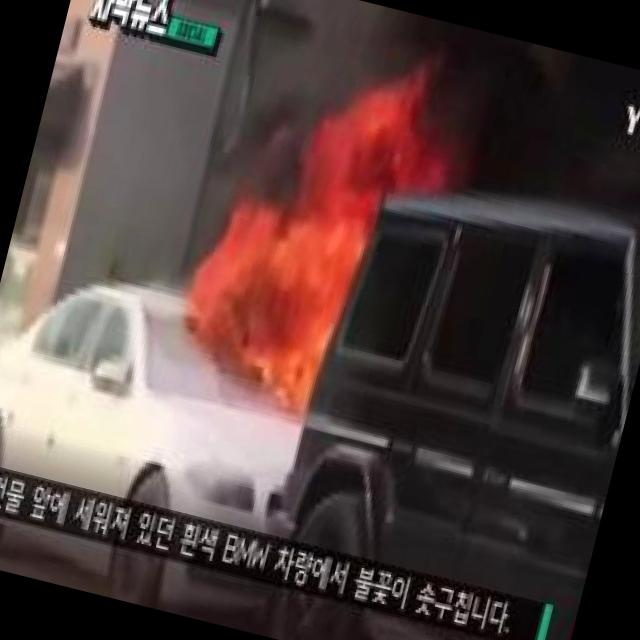Fire: (179, 72, 454, 425)
